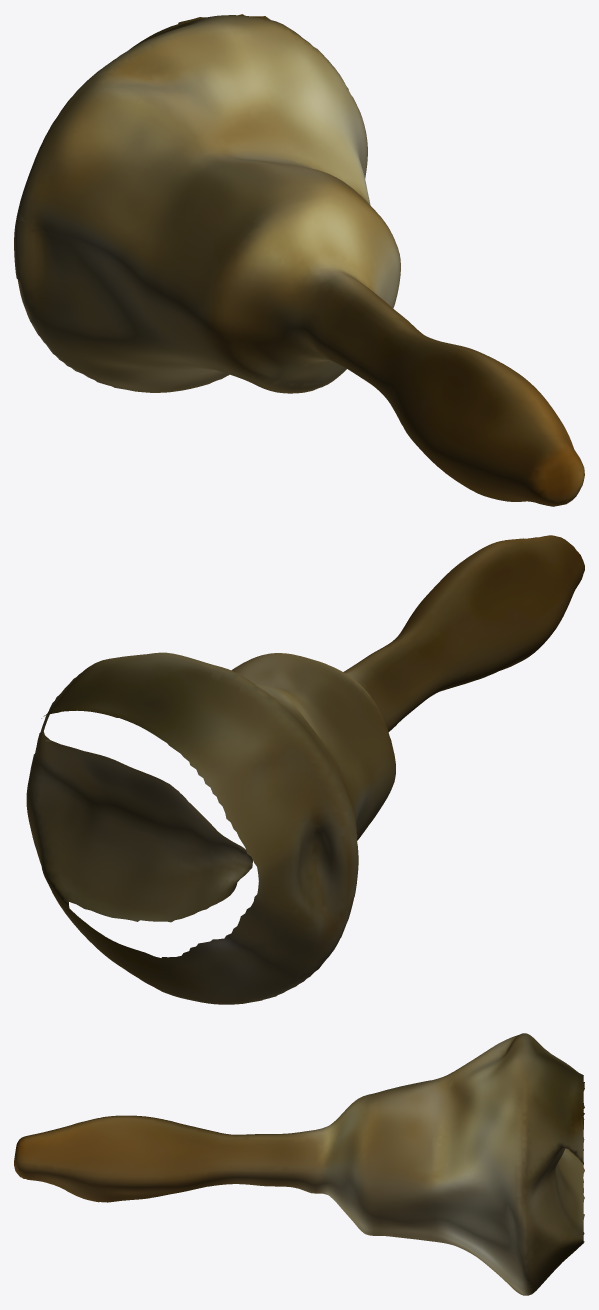
The model's file is bell.glb.
3 renders of one model, top to bottom at view 1: azimuth 30°, elevation 25°; view 2: azimuth 150°, elevation 25°; view 3: azimuth 270°, elevation 25°, orthographic. The views are drawn at different scales.
Size of the model in its own units: 0.4684 by 0.46 by 0.9997.
